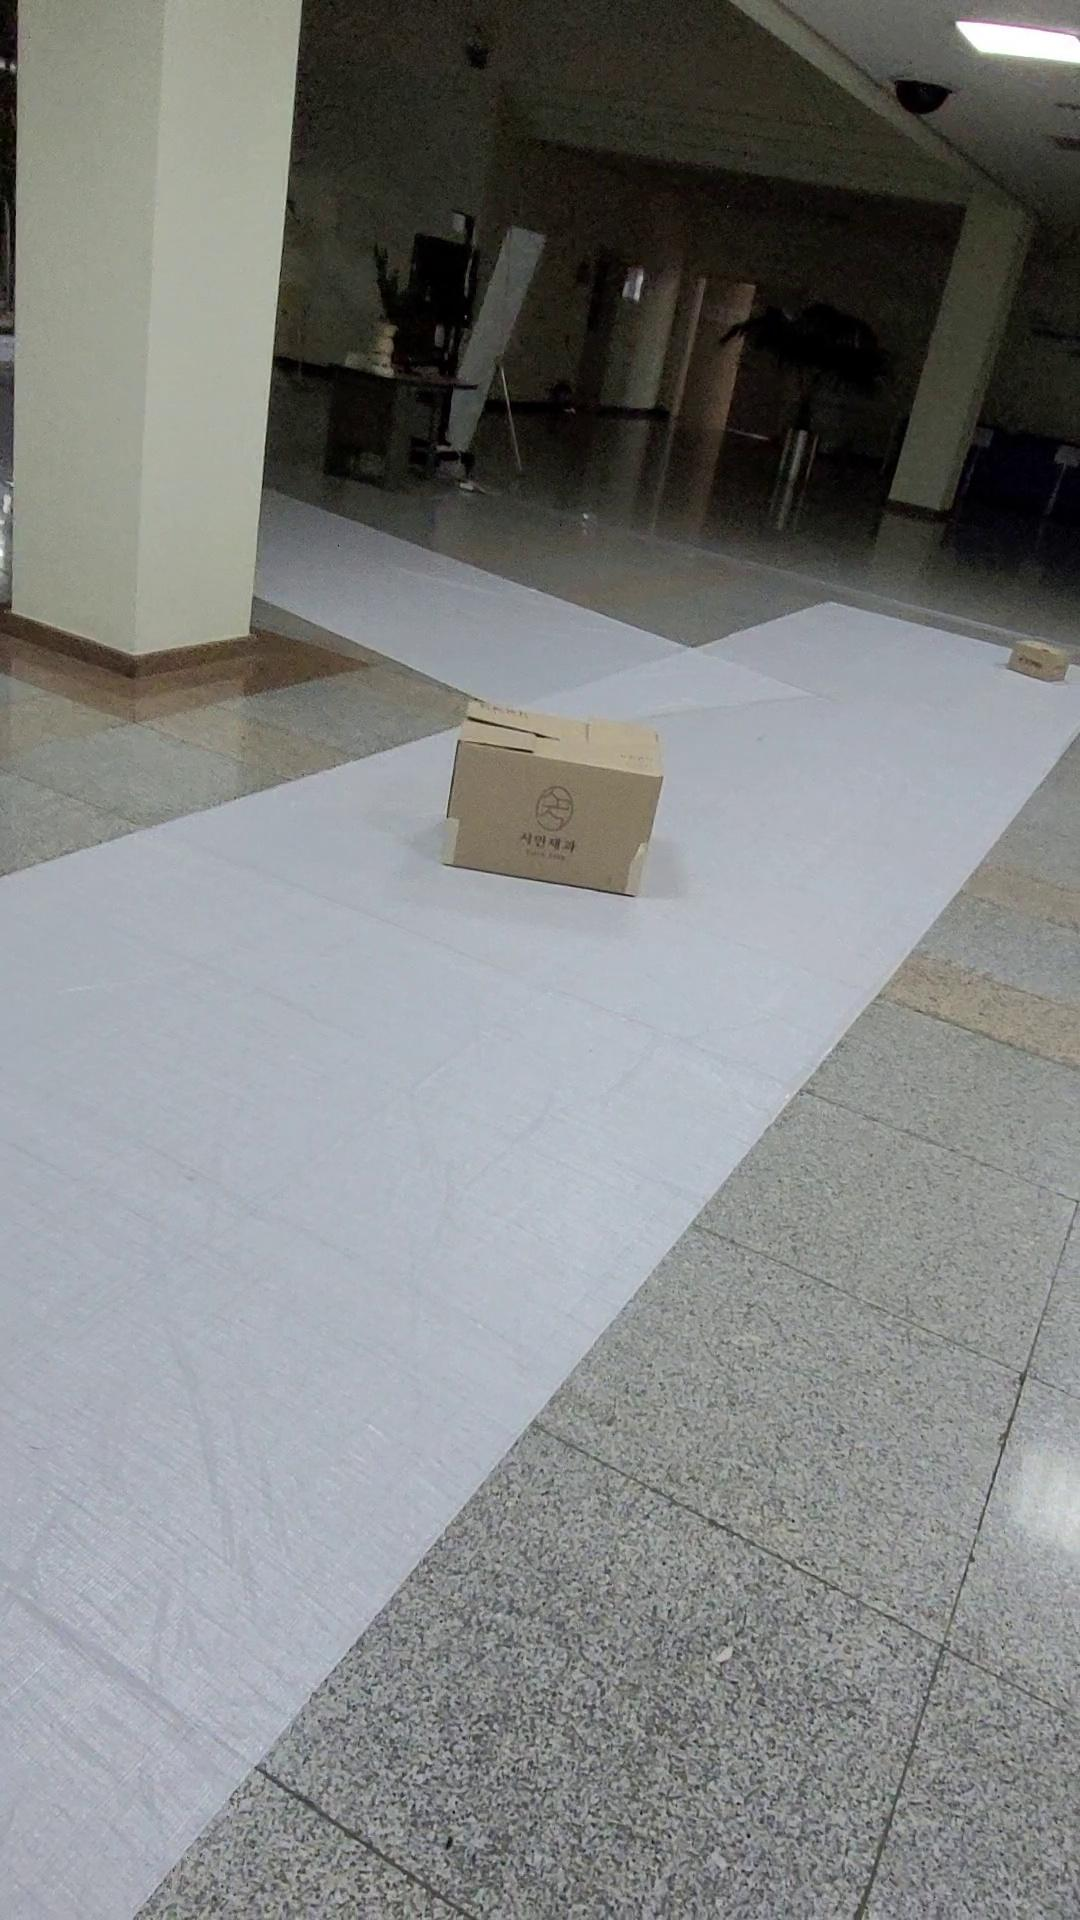Box: (398, 663, 702, 934), (971, 600, 1080, 723)
